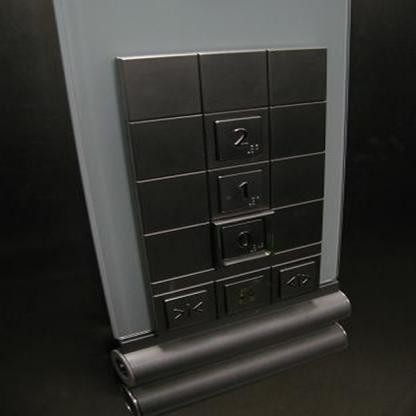0: (217, 216, 266, 261)
1: (213, 167, 265, 214)
2: (212, 113, 265, 162)
blur: (220, 272, 265, 315)
close: (161, 286, 211, 331)
open: (275, 258, 316, 301)
